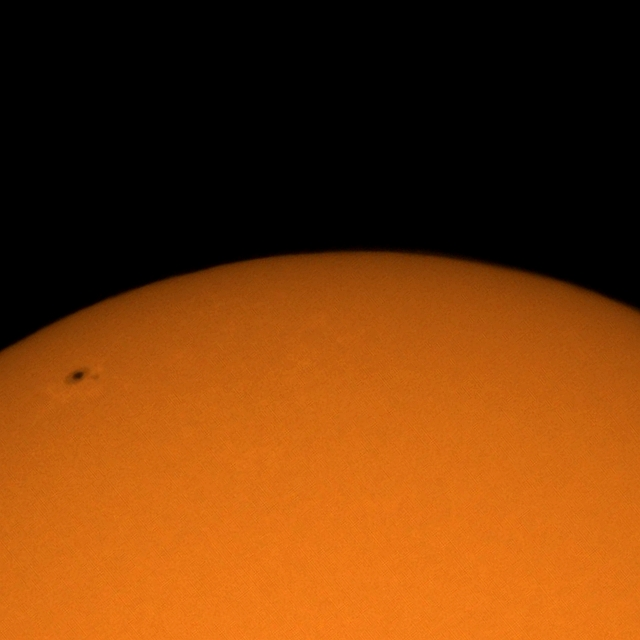sunspot: (65, 366, 100, 388)
